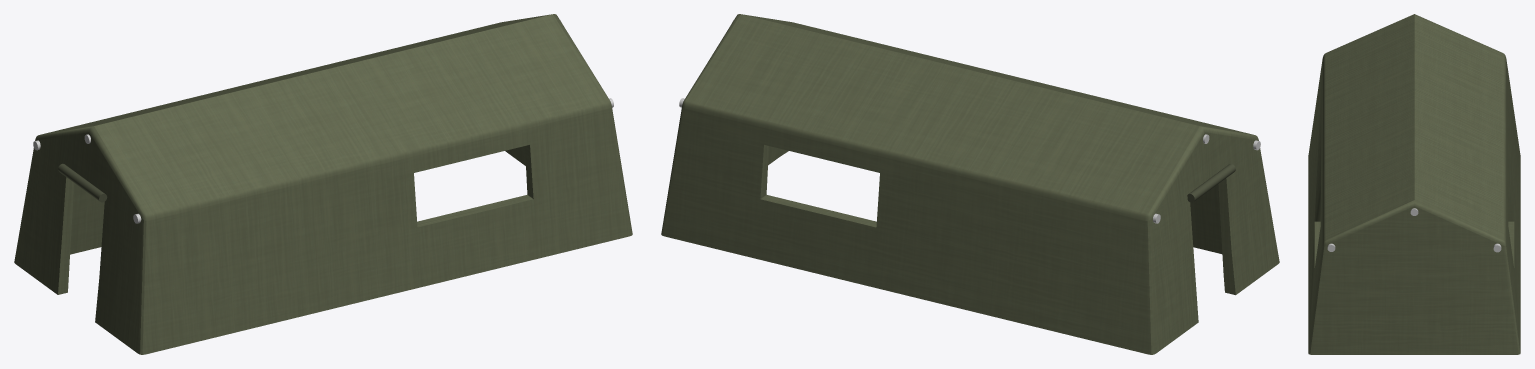
Rendered from Tent.fbx.
The picture shows the model from 3 angles, left to right: view 1: azimuth 30°, elevation 25°; view 2: azimuth 150°, elevation 25°; view 3: azimuth 270°, elevation 25°; orthographic projection. The views are drawn at different scales.
Parts seen in each view (by area): view 1: Box001_Main Tent_0, Cylinder001_Door Wrap_0; view 2: Box001_Main Tent_0, Cylinder001_Door Wrap_0; view 3: Box001_Main Tent_0.
Part boxes in pixels (x1=…): Box001_Main Tent_0: x1=14, y1=14, x2=632, y2=354; Cylinder001_Door Wrap_0: x1=58, y1=163, x2=107, y2=202; Box001_Main Tent_0: x1=661, y1=14, x2=1279, y2=354; Cylinder001_Door Wrap_0: x1=1187, y1=164, x2=1235, y2=202; Box001_Main Tent_0: x1=1308, y1=14, x2=1520, y2=354.
Size of the model in its own units: 3221 by 1112 by 1450.
